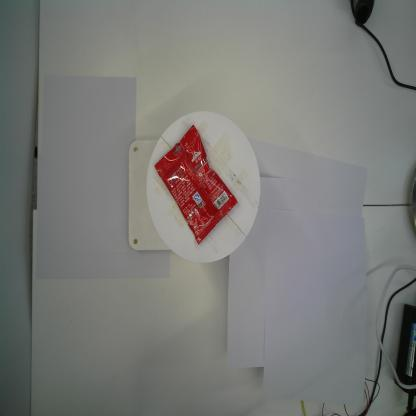Instant Drink: (154, 124, 238, 245)
